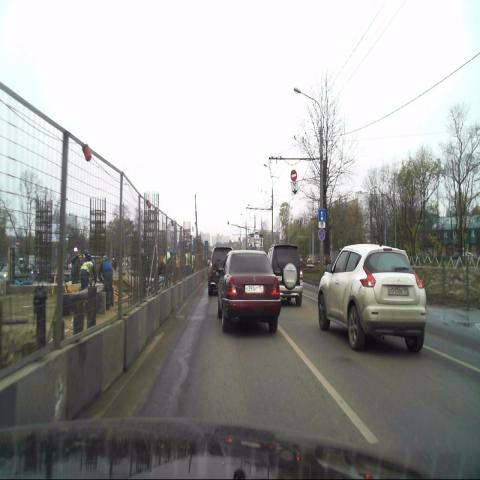3_1: (290, 169, 297, 181)
3_27: (318, 228, 325, 240)
5_14: (318, 208, 326, 221)
